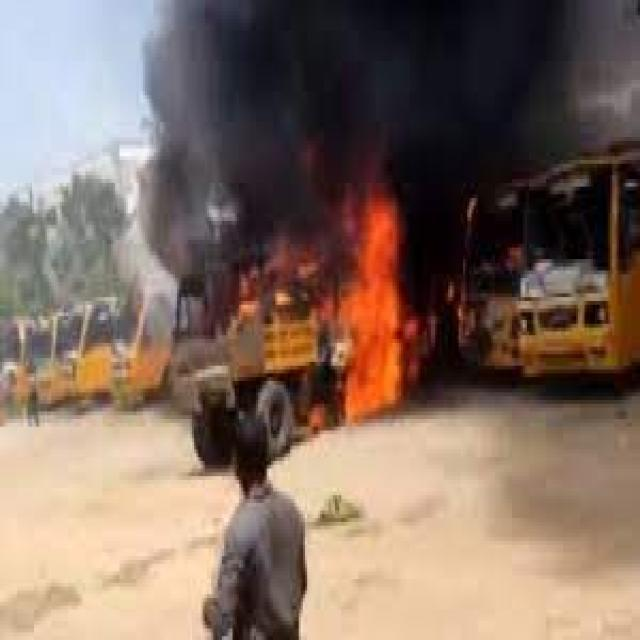Fire: (332, 191, 416, 420), (240, 245, 332, 332), (307, 396, 328, 430)
Smoke: (145, 0, 640, 186), (232, 0, 332, 245), (400, 188, 616, 278), (147, 188, 240, 294)
